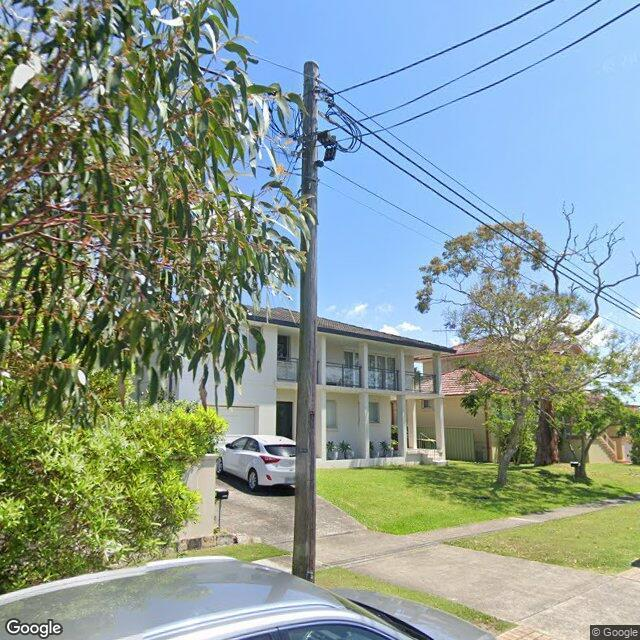timber-pole: (291, 59, 320, 585)
